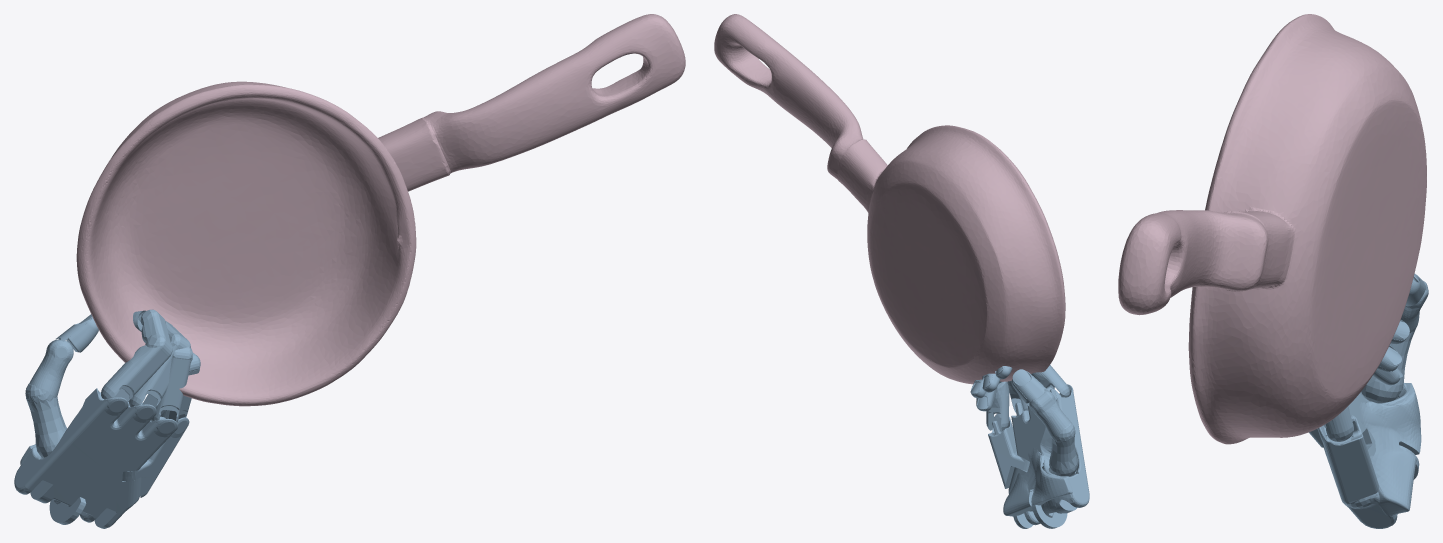
The picture shows the model from 3 angles, left to right: view 1: azimuth 30°, elevation 25°; view 2: azimuth 150°, elevation 25°; view 3: azimuth 270°, elevation 25°; orthographic projection. The views are drawn at different scales.
Visible parts, largest first — view 1: obj_mesh_grasp_25.obj, world; view 2: obj_mesh_grasp_25.obj, world; view 3: obj_mesh_grasp_25.obj, world.
Part boxes in pixels (left/top/right/bottom): obj_mesh_grasp_25.obj: left=76, top=14, right=685, bottom=406; world: left=14, top=309, right=200, bottom=528; obj_mesh_grasp_25.obj: left=714, top=14, right=1065, bottom=384; world: left=970, top=365, right=1089, bottom=528; obj_mesh_grasp_25.obj: left=1118, top=14, right=1426, bottom=444; world: left=1309, top=273, right=1428, bottom=528.
Bounding box in the file's own units: 0.4539 × 0.3582 × 0.1713.
